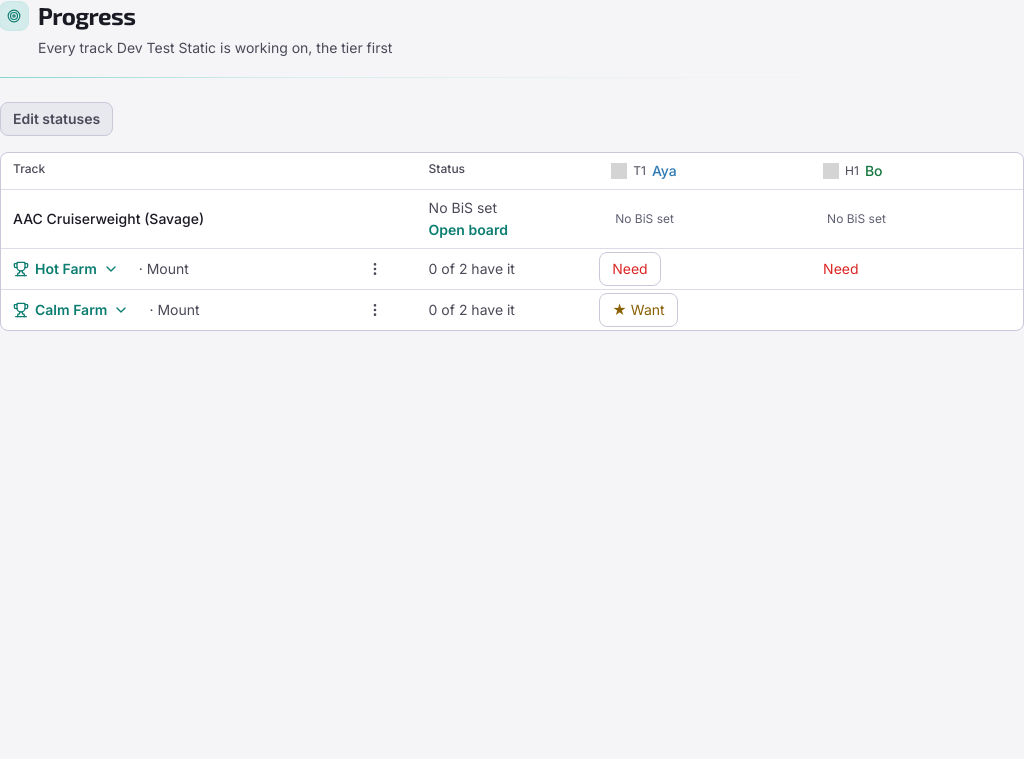
it: the menu's Edit (vet M-1) › opens a closed row with the block on top and the Title focused
Click the button named "Actions for Hot Farm" at (375, 269), box [361, 255, 389, 283]
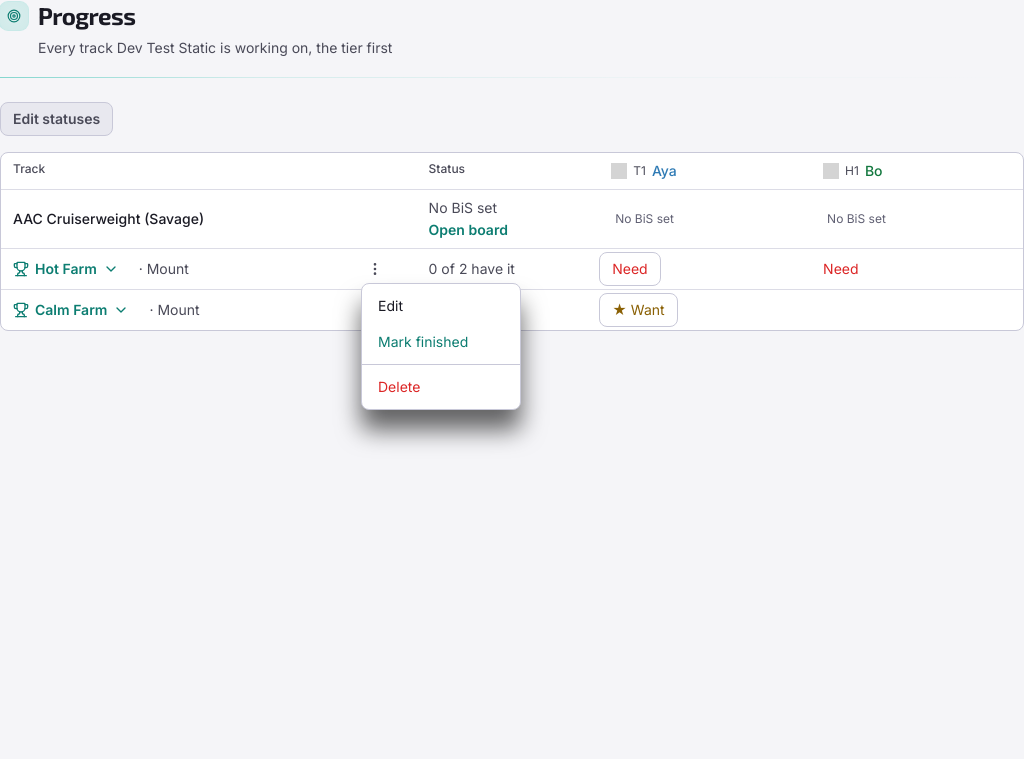
Click the menu item "Edit" at (441, 306), box [362, 288, 520, 324]
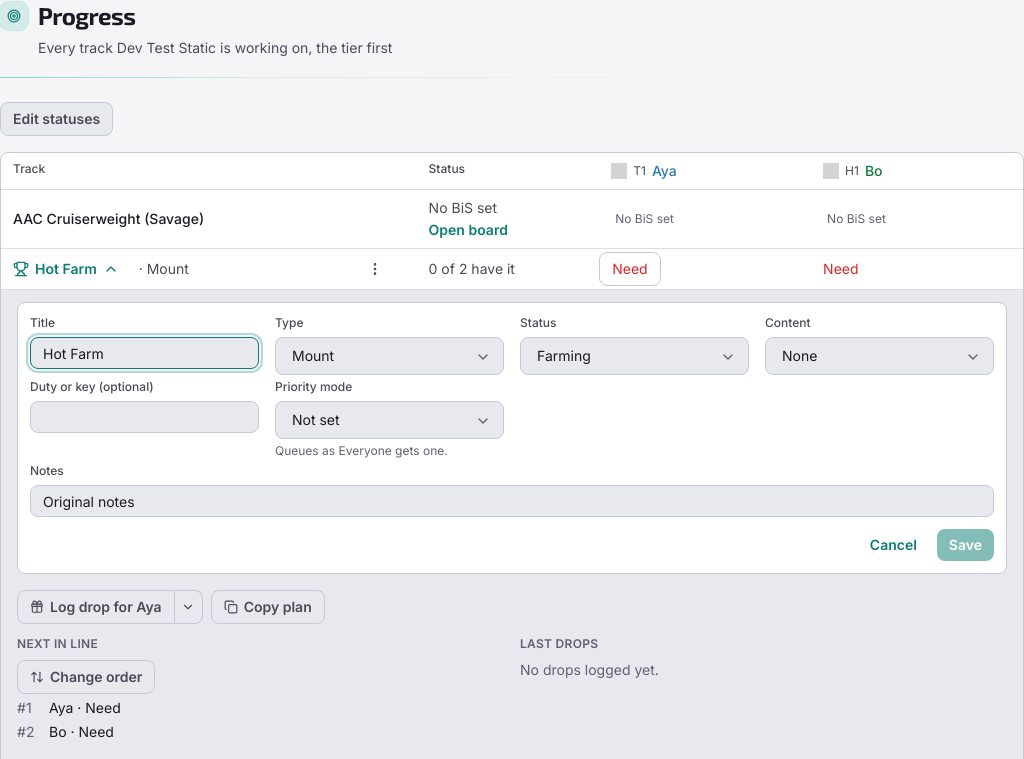
expect the form with test id "progress-edit-block" is shown: met, box [17, 302, 1007, 574]
expect the button "Hot Farm" is expanded: met, box [1, 253, 131, 285]
expect the field labelled "Title" holds "Hot Farm": met, box [30, 337, 259, 369]
